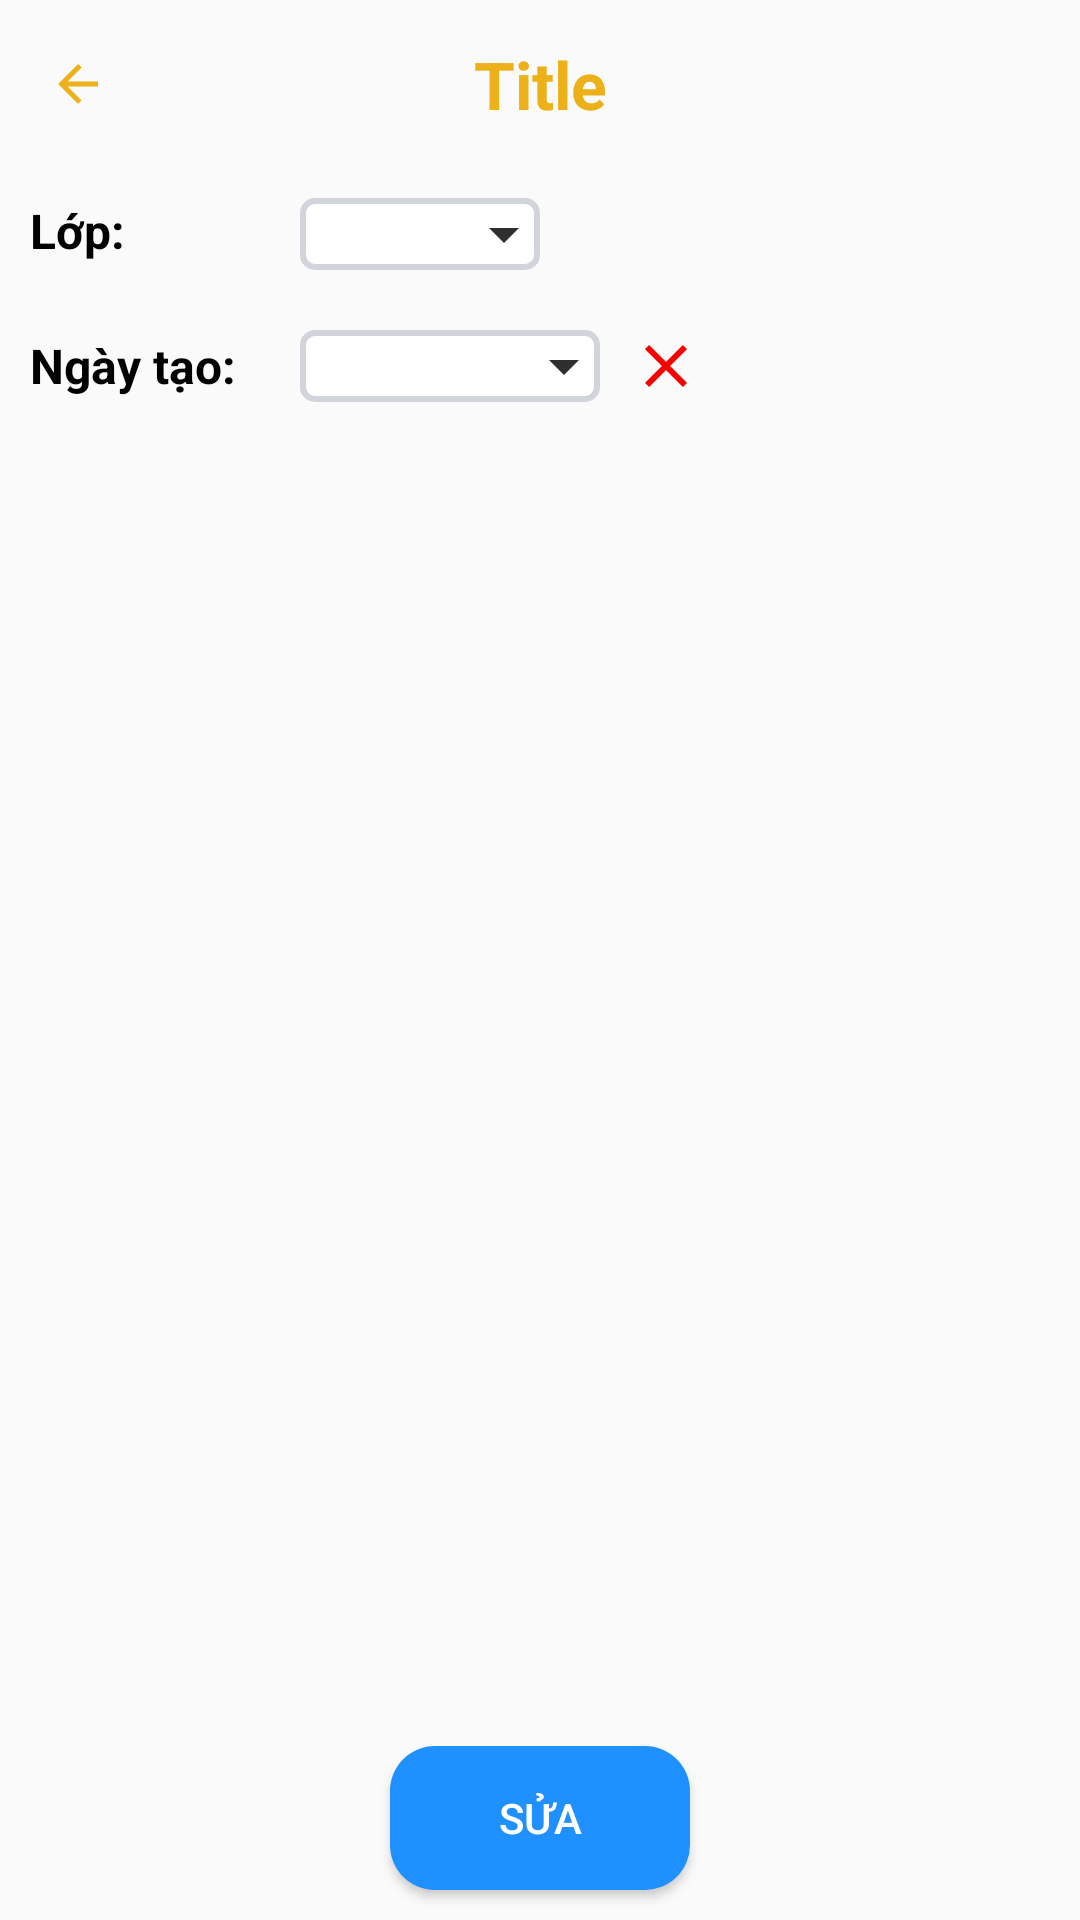

Where icons sit on this 1080px x 1920px app screen, as (x1, y1, x2, y2):
back: (58, 64, 98, 104)
delete: (645, 345, 687, 387)
